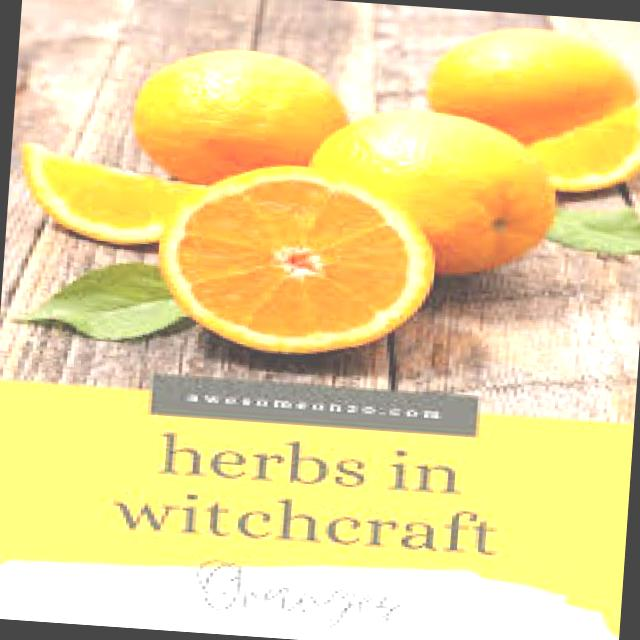Orange: (148, 154, 441, 364), (297, 101, 560, 282), (125, 39, 351, 192), (418, 18, 640, 150)
